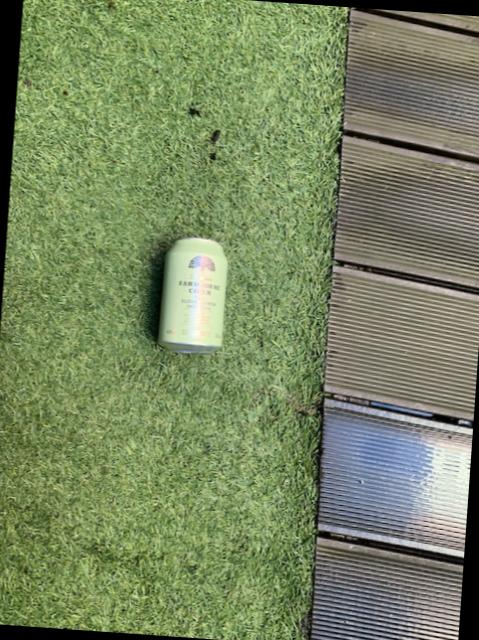metal: (308, 7, 479, 640)
